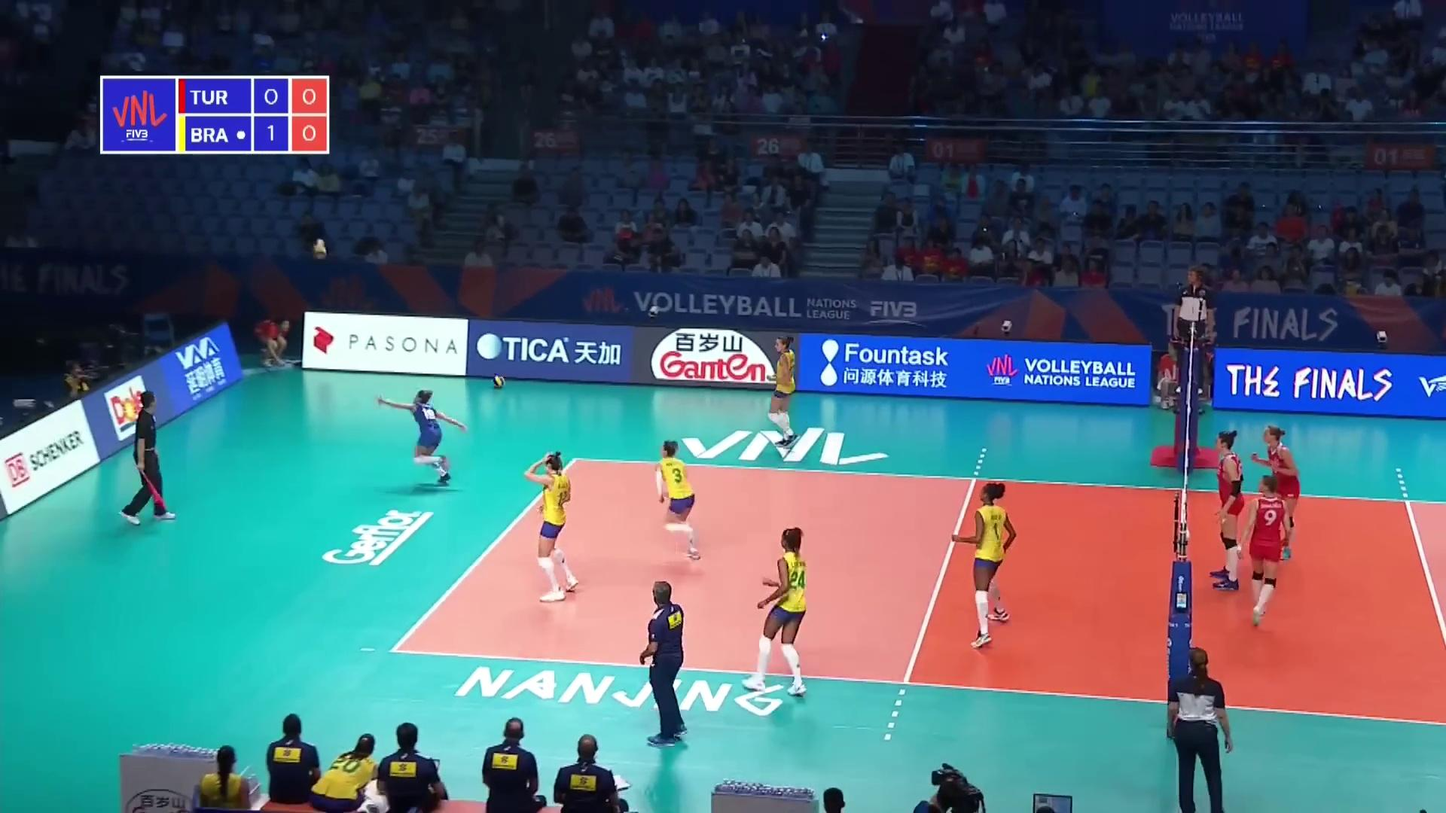player: (742, 528, 809, 696), (953, 481, 1020, 648), (379, 391, 467, 490), (525, 452, 582, 602), (1244, 474, 1292, 626), (1251, 427, 1301, 562), (655, 440, 706, 561), (1209, 429, 1245, 593), (767, 336, 798, 446)
refree: (1170, 647, 1230, 813), (632, 588, 688, 747), (1173, 266, 1213, 394)
